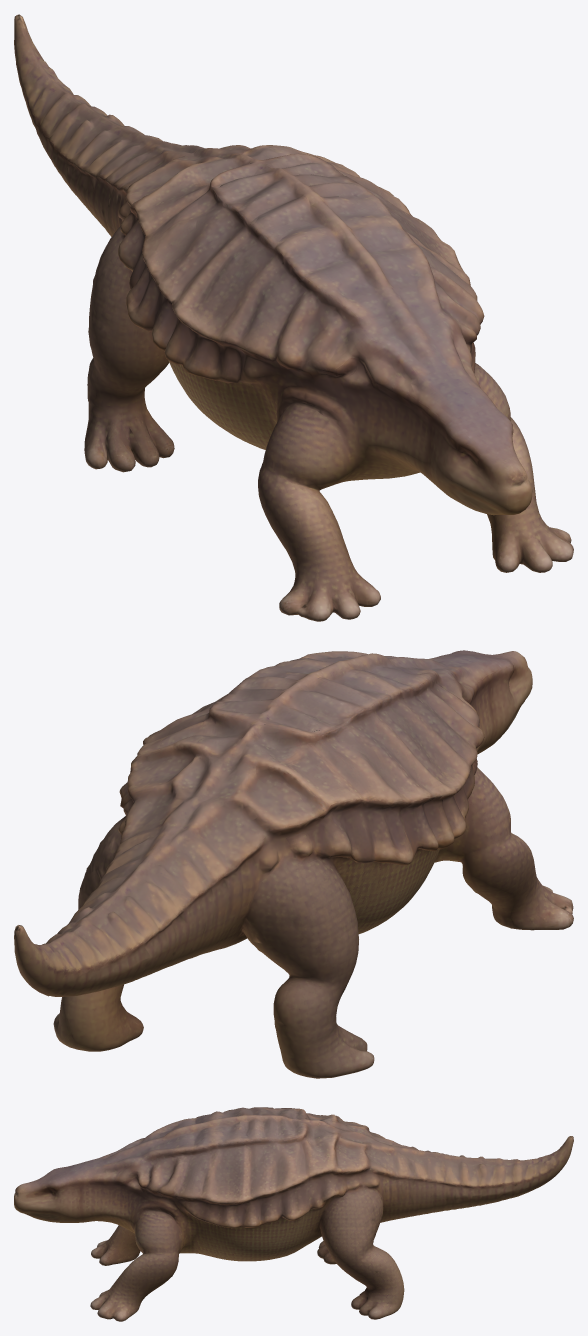
The picture shows the model from 3 angles, top to bottom: view 1: azimuth 30°, elevation 25°; view 2: azimuth 150°, elevation 25°; view 3: azimuth 270°, elevation 25°; orthographic projection. The views are drawn at different scales.
Visible parts, largest first — view 1: world; view 2: world; view 3: world.
Part boxes in pixels (x1,y1,x2,y2): world: (14, 14, 573, 621); world: (14, 650, 573, 1078); world: (14, 1107, 573, 1321).
Bounding box in the file's own units: 0.8284 × 0.834 × 2.5.
1 material, 1 textured.
